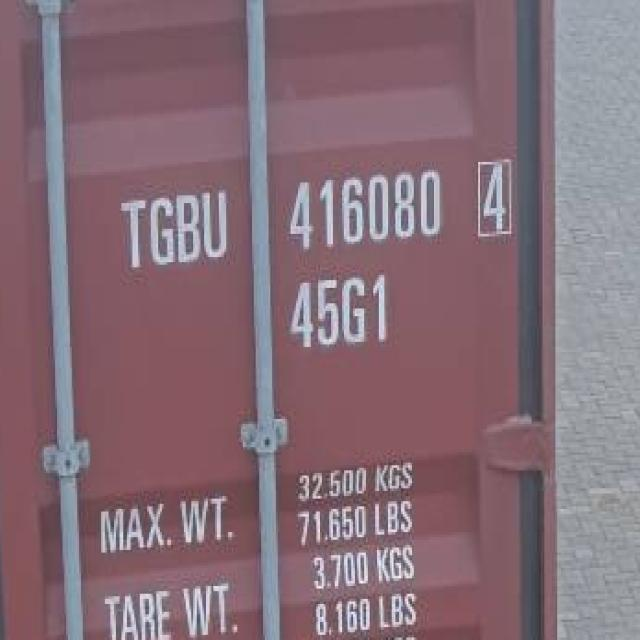dv: (468, 149, 514, 246)
owner: (117, 182, 236, 275)
serial: (282, 161, 456, 254)
size: (281, 265, 396, 357)
